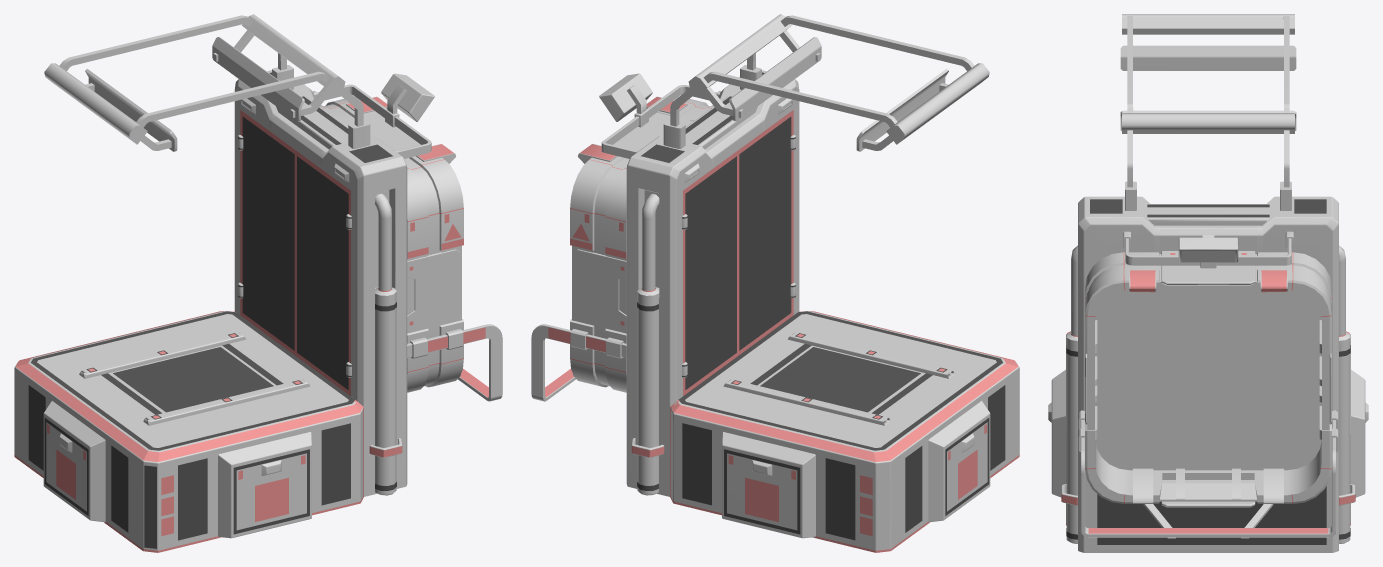
File: Provider-Station.fbx
3 views of the same model, side by side, from view 1: azimuth 30°, elevation 25°; view 2: azimuth 150°, elevation 25°; view 3: azimuth 270°, elevation 25° (orthographic).
Parts seen in each view (by area): view 1: Station, Belt_In; view 2: Station, Belt_In; view 3: Belt_In, Station.
Part boxes in pixels (bbox=[...]): Station: bbox=[14, 14, 434, 552]; Belt_In: bbox=[320, 96, 502, 401]; Station: bbox=[599, 14, 1019, 552]; Belt_In: bbox=[531, 96, 713, 401]; Belt_In: bbox=[1078, 251, 1338, 538]; Station: bbox=[1048, 14, 1368, 552].
Size of the model in its own units: 373 by 388 by 270.
